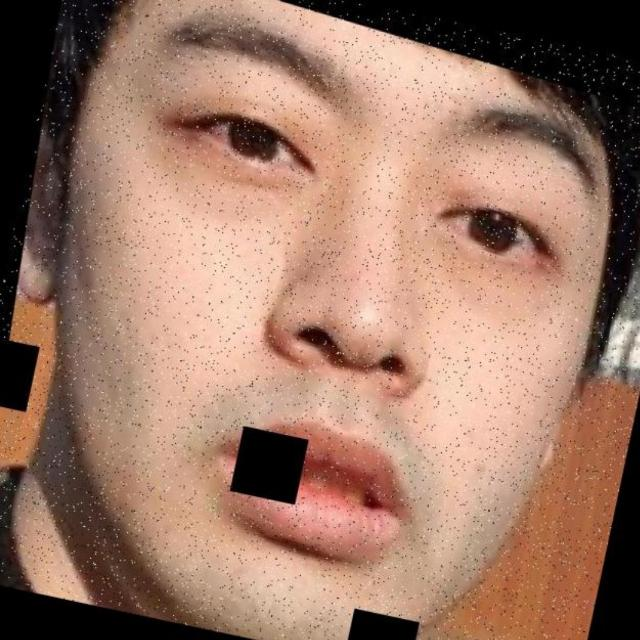Sad: (112, 8, 595, 640)
